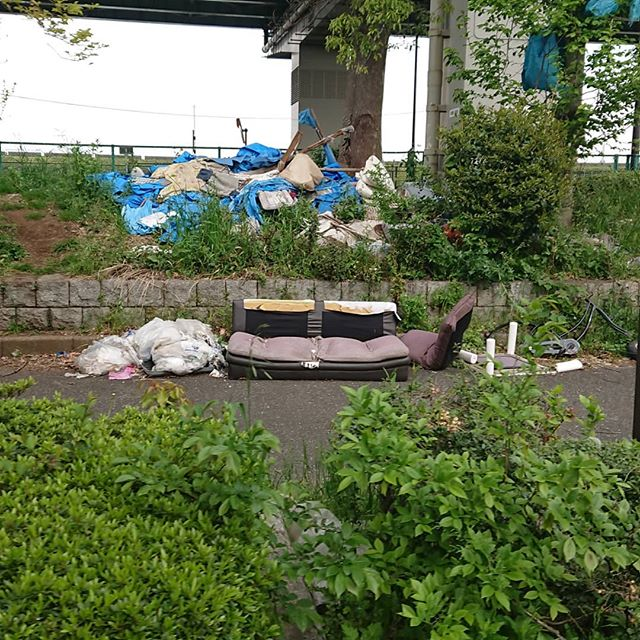collumn: (278, 1, 409, 169)
trash: (65, 87, 473, 372)
vegetation: (1, 400, 602, 640)
